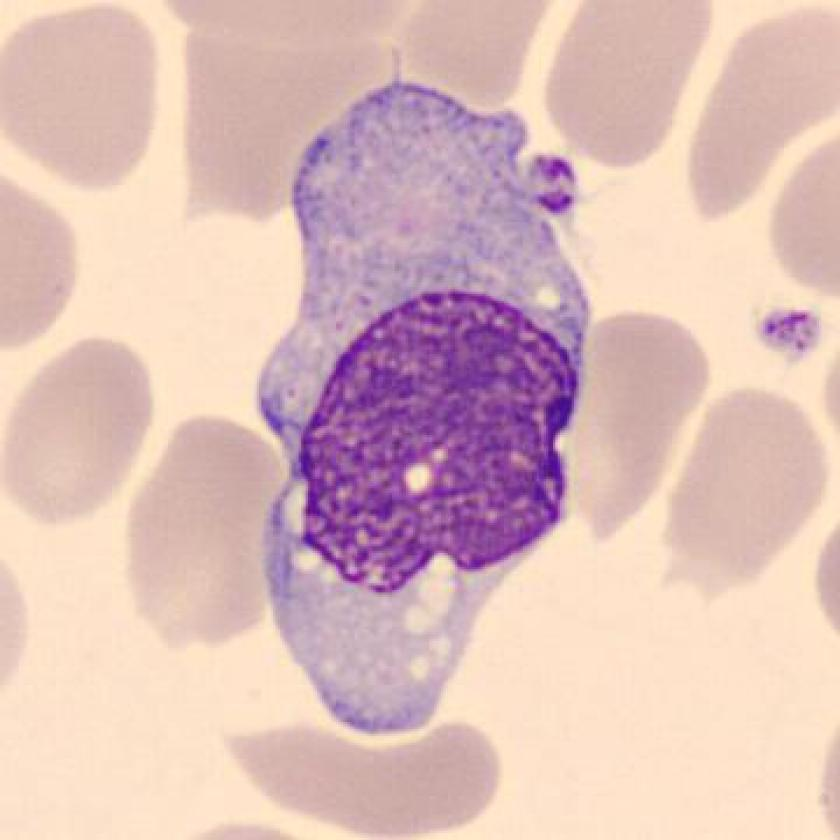monocyte: (246, 68, 596, 772)
